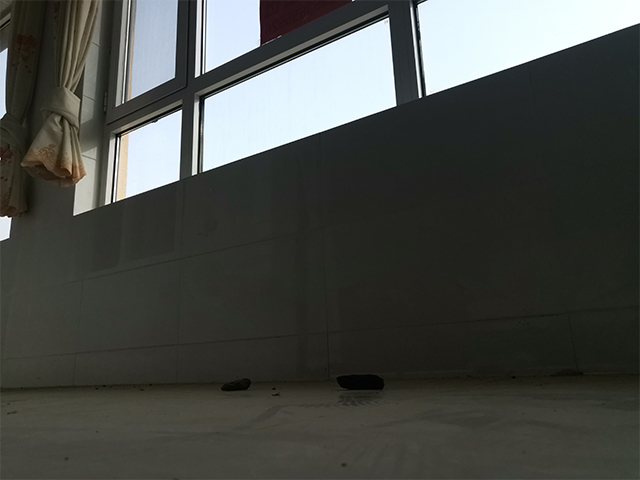feces: (334, 372, 387, 391), (218, 376, 252, 393)
